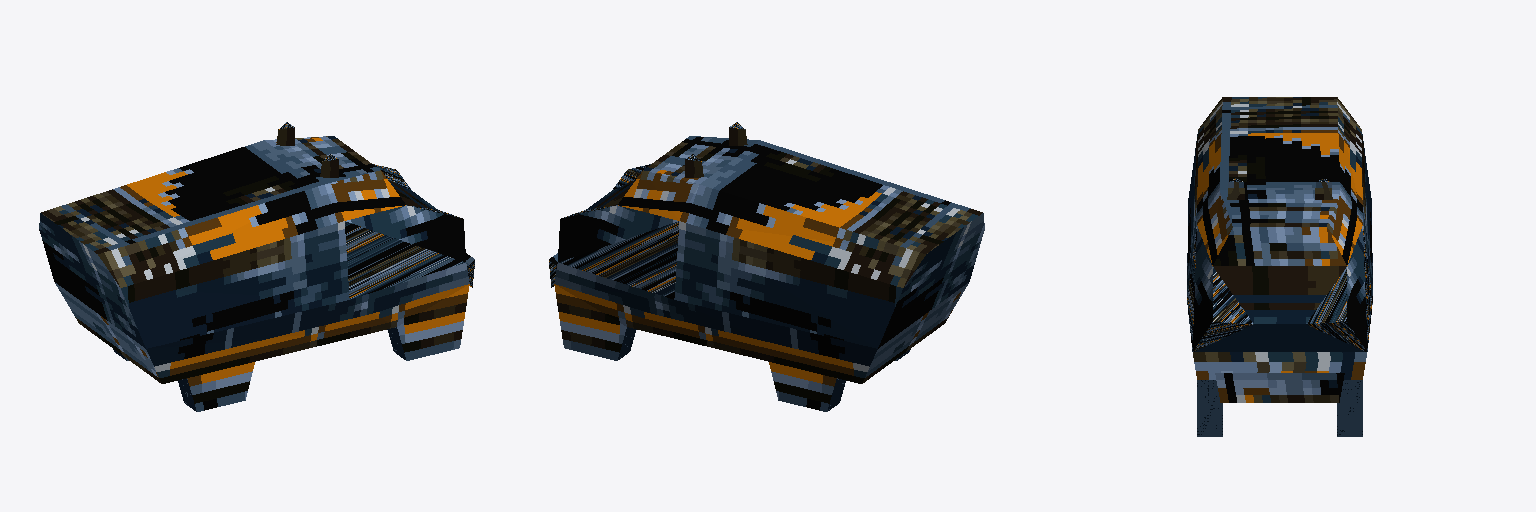
The picture shows the model from 3 angles: view 1: azimuth 30°, elevation 25°; view 2: azimuth 150°, elevation 25°; view 3: azimuth 270°, elevation 25°; orthographic projection.
Bounding box in the file's own units: 3.85 × 2 × 1.66.
Materials: 1 (1 with a texture image).